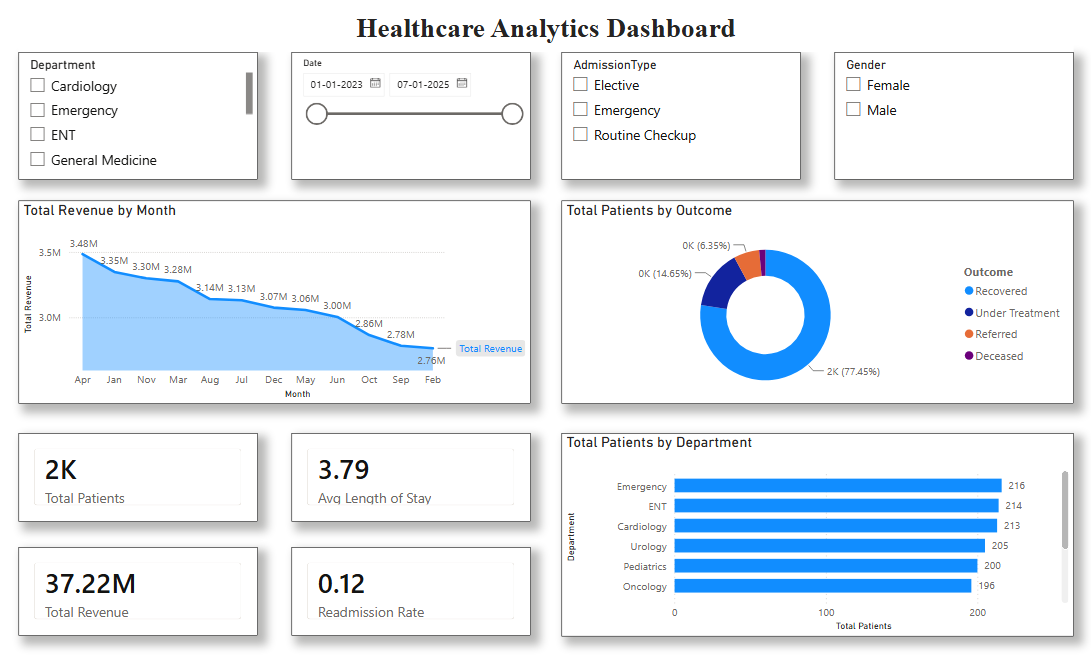

Layout of this report page (visuals, bound fields, positions):
{"tool":"powerbi","page":{"name":"Overview","canvas":[1280,780],"ordinal":0},"visuals":[{"type":"cardVisual","fields":{"Data":["healthcare_dataset (1).Total Patients"]},"box":[22.7,512.1,279.7,103.9],"z":0},{"type":"cardVisual","fields":{"Data":["healthcare_dataset (1).Total Revenue"]},"box":[22.7,646.3,279.7,103.9],"z":1000},{"type":"cardVisual","fields":{"Data":["healthcare_dataset (1).Avg Length of Stay"]},"box":[342,512.1,279.7,103.9],"z":2000},{"type":"cardVisual","fields":{"Data":["healthcare_dataset (1).Readmission Rate"]},"box":[342,646.3,279.7,103.9],"z":3000},{"type":"clusteredBarChart","fields":{"Category":["healthcare_dataset (1).Department"],"Y":["healthcare_dataset (1).Total Patients"]},"box":[657.6,512.1,599.1,238.1],"z":4000},{"type":"lineChart","fields":{"Y":["healthcare_dataset (1).Total Revenue"],"Category":["DateTable.Month"]},"box":[22.7,240,599.1,238.1],"z":5000},{"type":"donutChart","fields":{"Y":["healthcare_dataset (1).Total Patients"],"Category":["healthcare_dataset (1).Outcome"]},"box":[657.6,240,599.1,238.1],"z":6000},{"type":"slicer","fields":{"Values":["healthcare_dataset (1).Department"]},"box":[22.7,66.1,279.7,149.3],"z":7000},{"type":"slicer","fields":{"Values":["healthcare_dataset (1).Gender"]},"box":[977,66.1,279.7,149.3],"z":8000},{"type":"slicer","fields":{"Values":["healthcare_dataset (1).AdmissionType"]},"box":[657.6,66.1,279.7,149.3],"z":9000},{"type":"slicer","fields":{"Values":["DateTable.Date"]},"box":[342,66.1,279.7,149.3],"z":10000},{"type":"textbox","box":[22.7,13.2,1234,52.9],"z":11000}]}

Visuals, with their boxes in screenshot pixels (x1, y1, x2, y2), scaled from the page's 1280x780 canvas onto the 1091x660 screenshot:
cardVisual - healthcare_dataset (1).Total Patients: (19,433,258,521)
cardVisual - healthcare_dataset (1).Total Revenue: (19,547,258,635)
cardVisual - healthcare_dataset (1).Avg Length of Stay: (292,433,530,521)
cardVisual - healthcare_dataset (1).Readmission Rate: (292,547,530,635)
clusteredBarChart - healthcare_dataset (1).Department x healthcare_dataset (1).Total Patients: (561,433,1071,635)
lineChart - healthcare_dataset (1).Total Revenue x DateTable.Month: (19,203,530,405)
donutChart - healthcare_dataset (1).Total Patients x healthcare_dataset (1).Outcome: (561,203,1071,405)
slicer - healthcare_dataset (1).Department: (19,56,258,182)
slicer - healthcare_dataset (1).Gender: (833,56,1071,182)
slicer - healthcare_dataset (1).AdmissionType: (561,56,799,182)
slicer - DateTable.Date: (292,56,530,182)
textbox: (19,11,1071,56)
